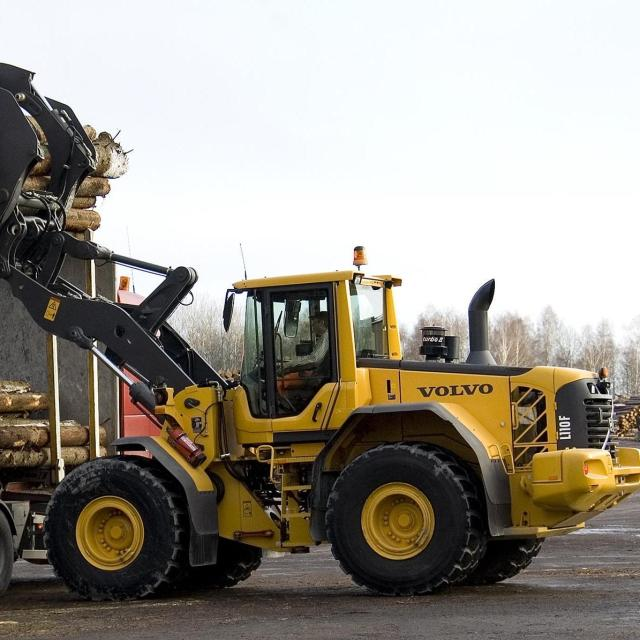buldozerpayloadergrader: (37, 266, 631, 602)
